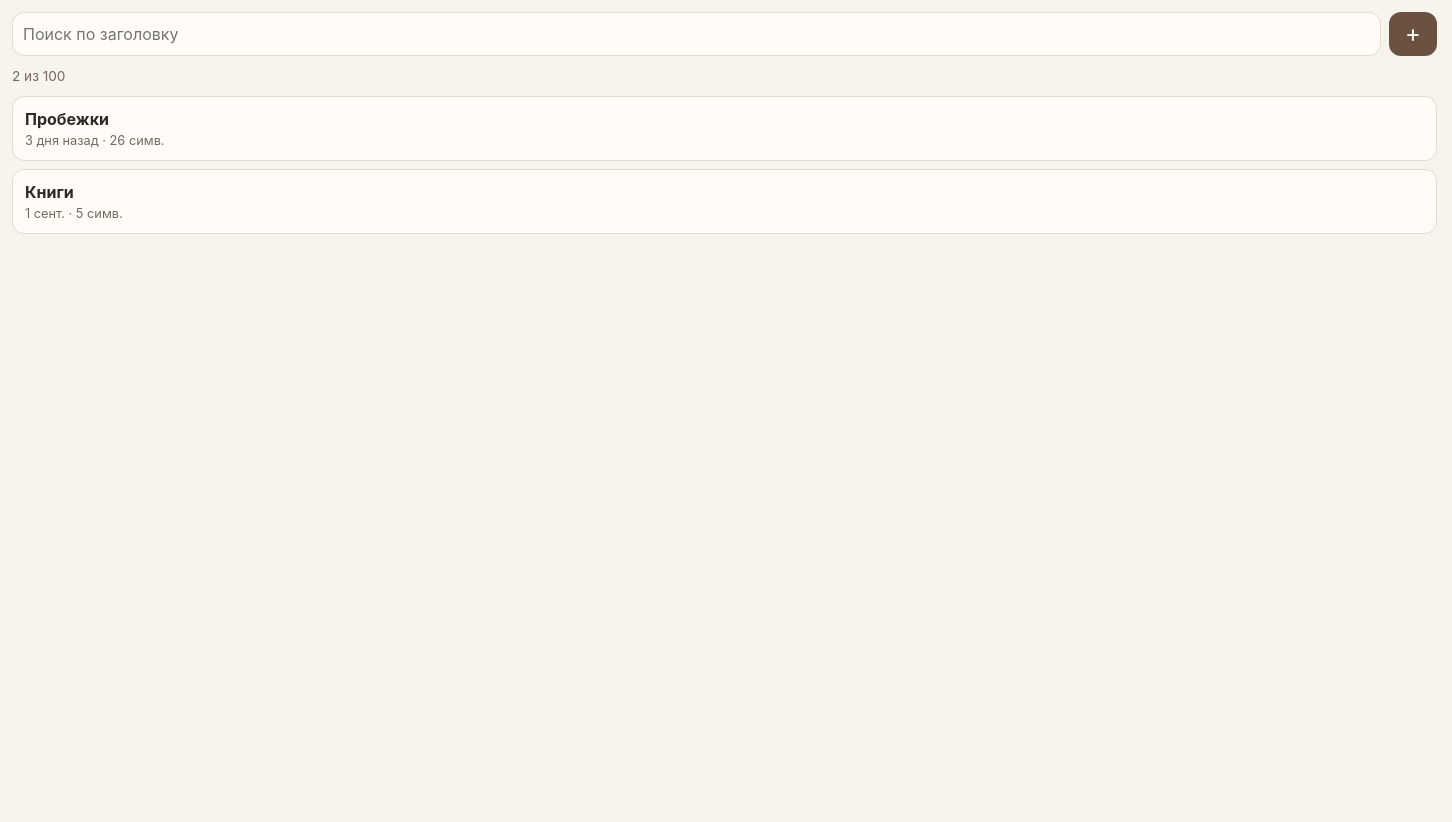
Scenario: NotesScreen › creates a note and keeps typed text on title_taken
The width and height of the screenshot is (1452, 822).
Click the button named "Создать заметку" at {"x": 1413, "y": 34}, box [1389,12,1437,56]
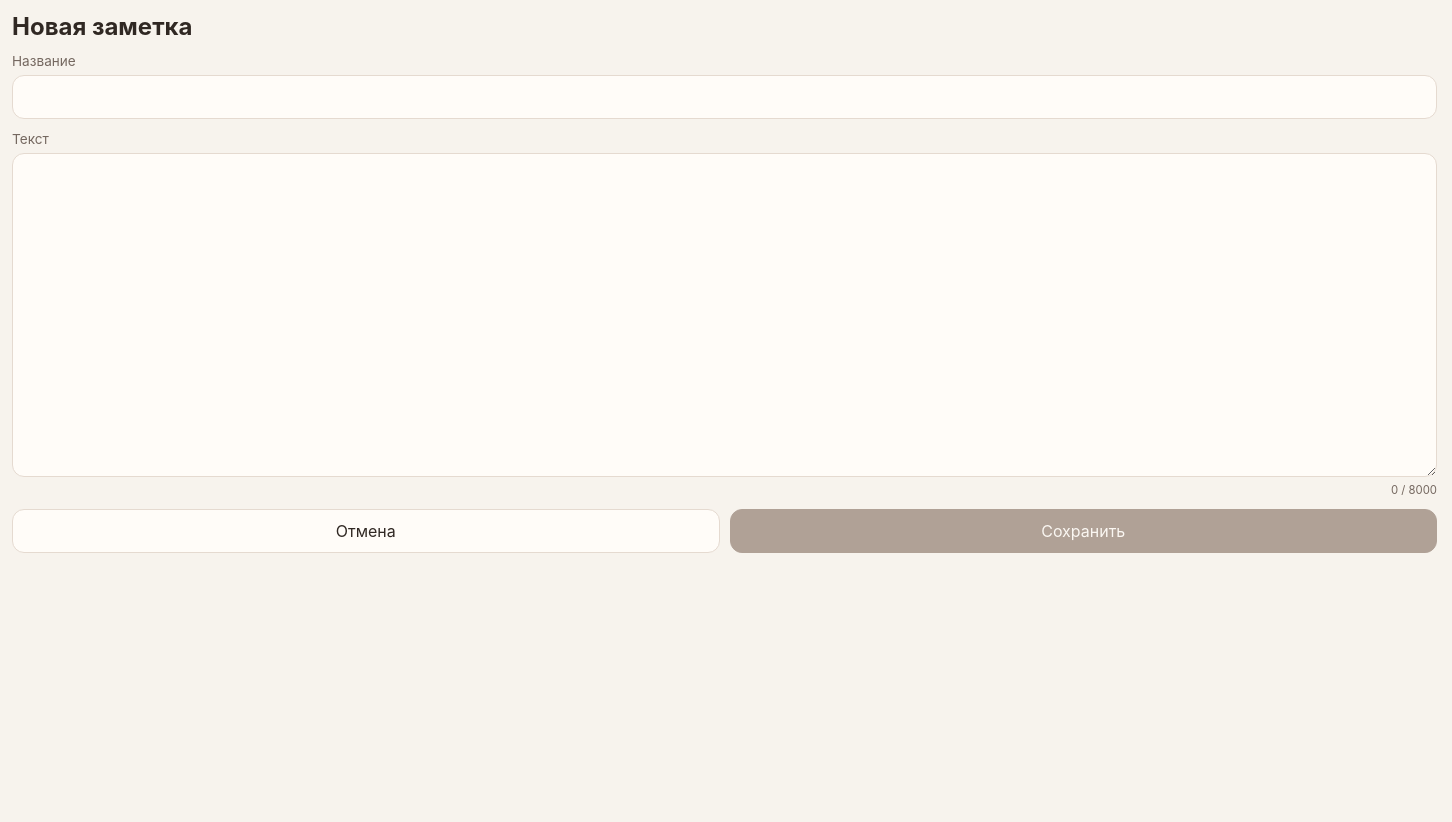
Now the button with class "note-save" is disabled, box [730,509,1437,553]
Type "Книги" into the field labelled "Название" at {"x": 724, "y": 97}, box [12,75,1437,119]
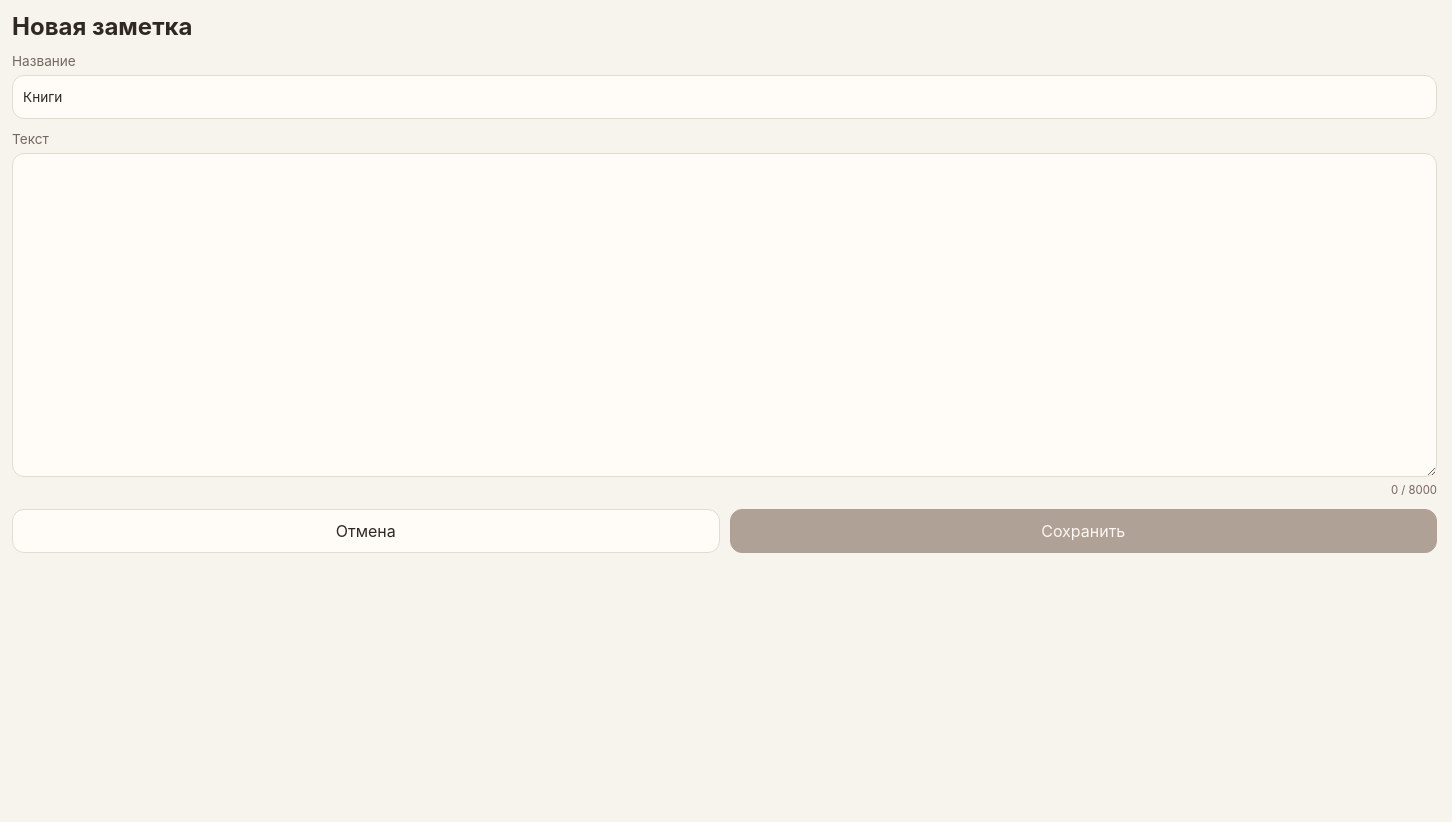
Type "мой текст" into the text box labelled "Текст 0 / 8000" at {"x": 724, "y": 315}, box [12,153,1437,477]
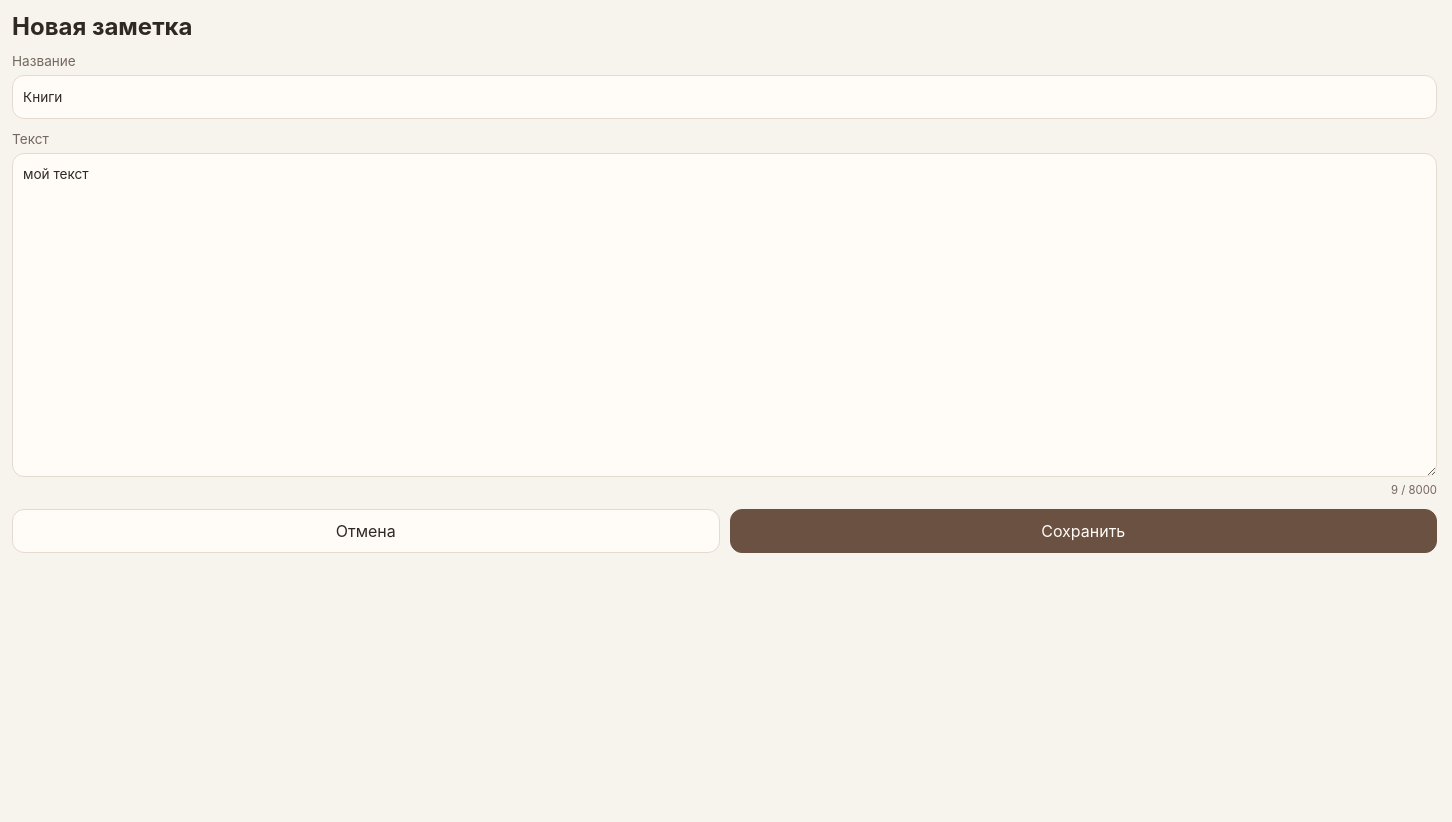
Click the button with class "note-save" at {"x": 1083, "y": 531}, box [730,509,1437,553]
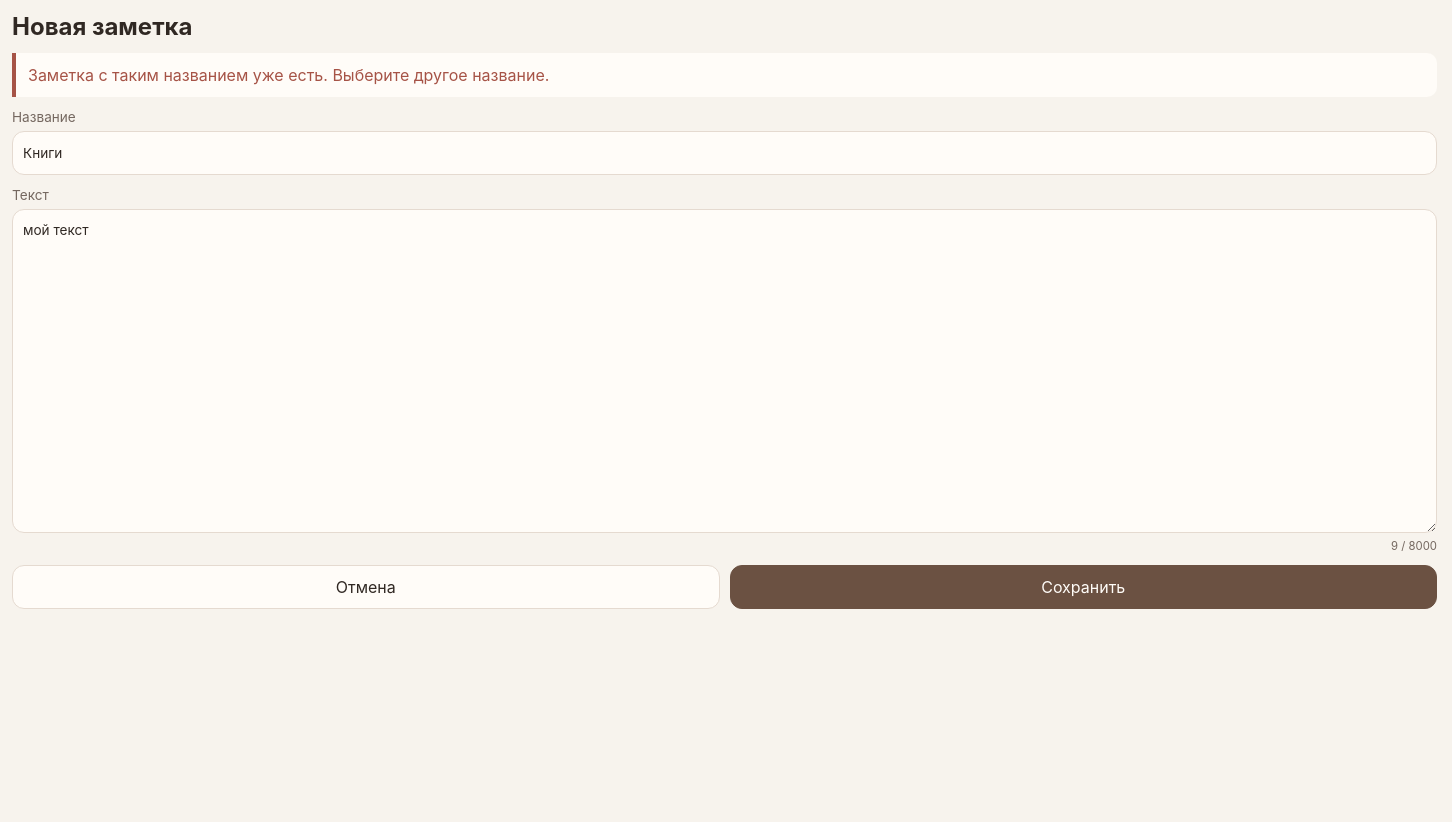
Now the text "Заметка с таким названием уже есть" is shown, box [28,65,549,85]
